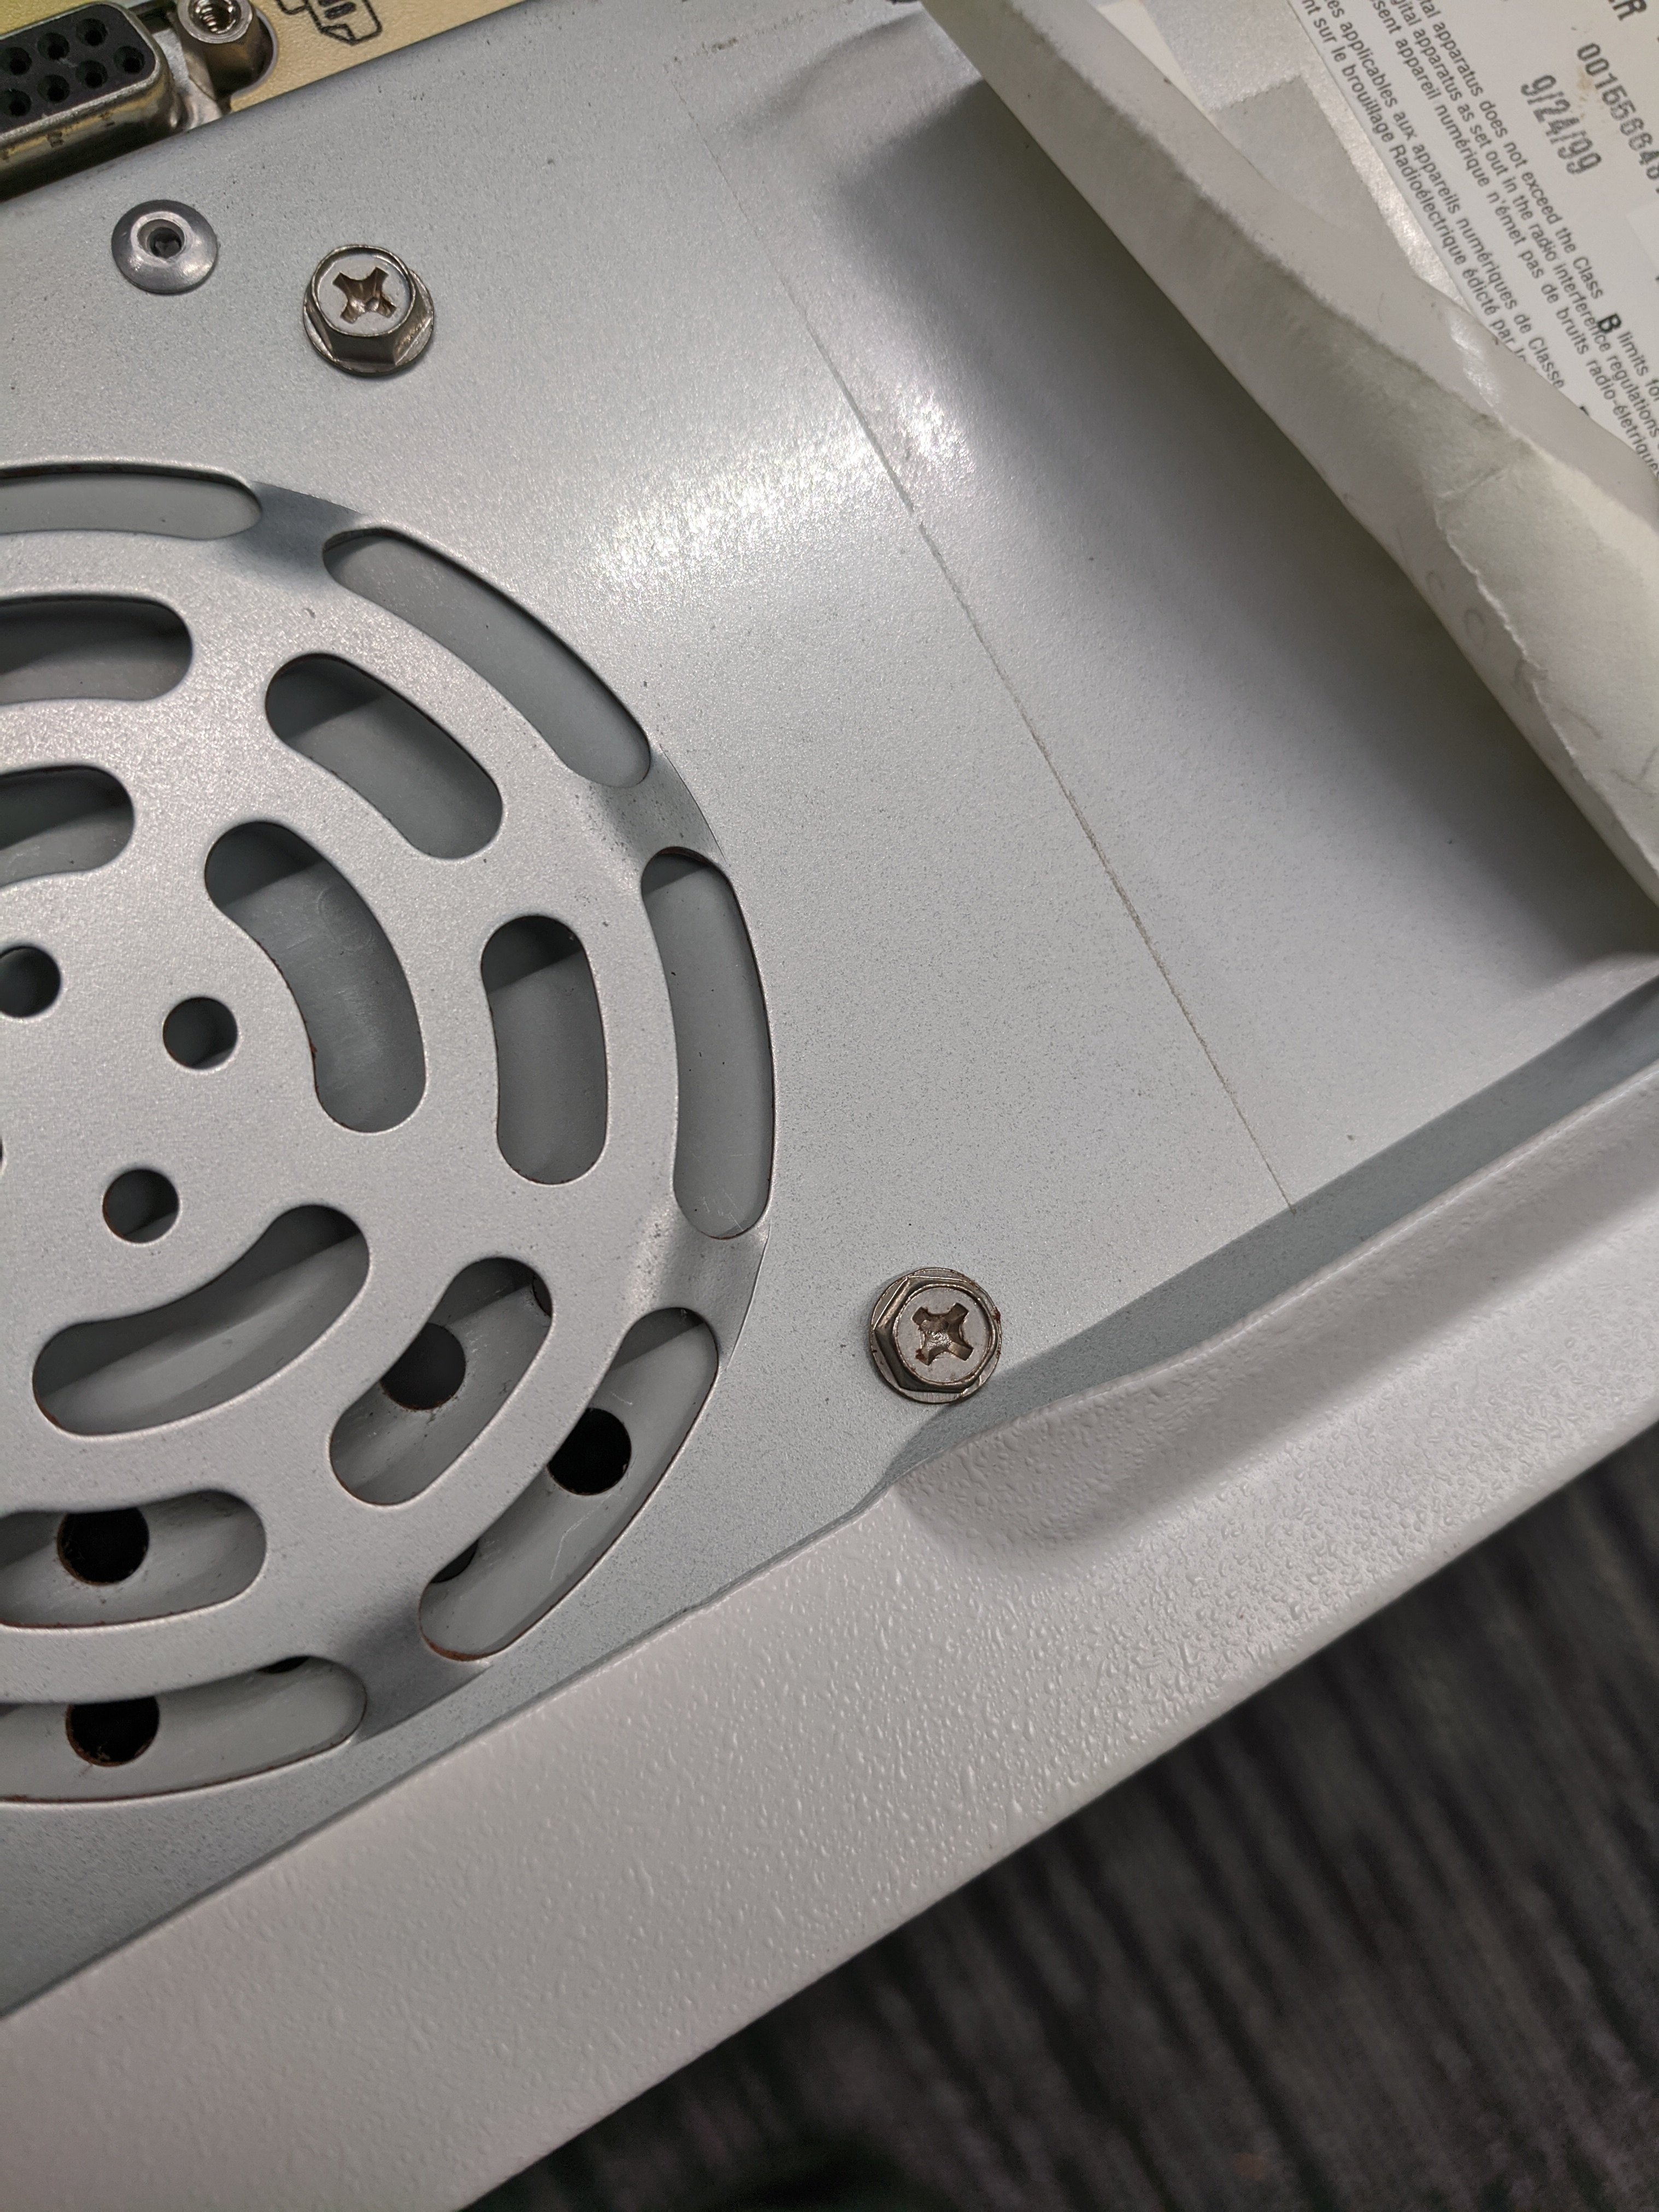cross_recessed_screw: (298, 232, 436, 355), (864, 1264, 1000, 1388)
